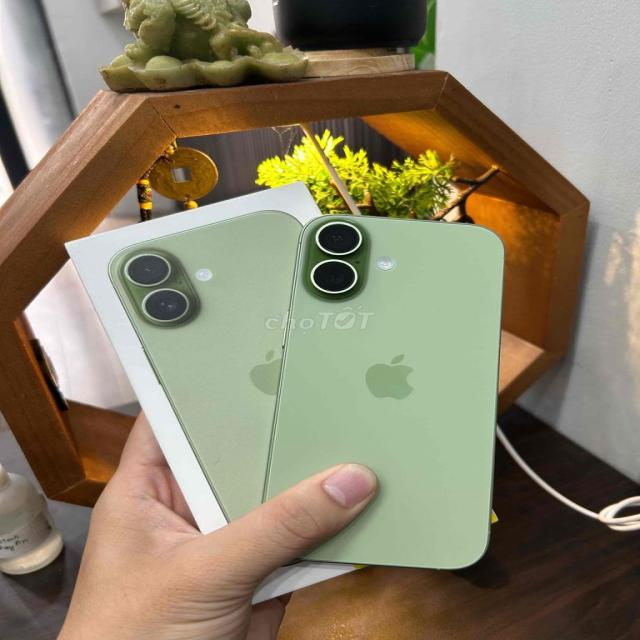gen_17: (264, 208, 512, 584)
